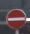No entry: (5, 6, 25, 28)
